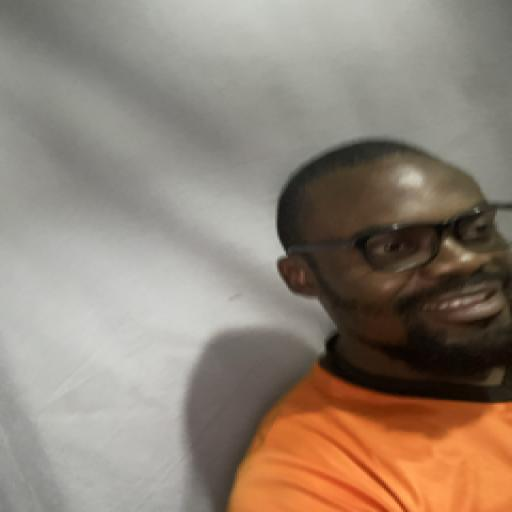JEANLUC: (260, 157, 512, 374)
